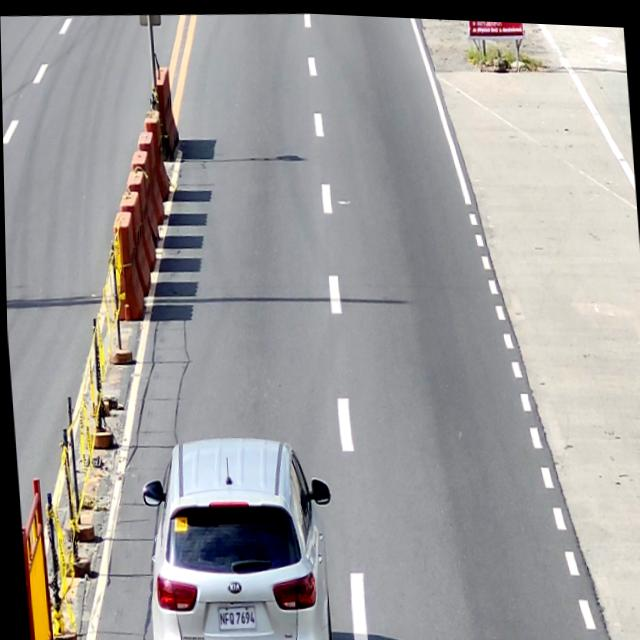Car: (134, 425, 339, 640)
License-Plate: (214, 600, 254, 630)
